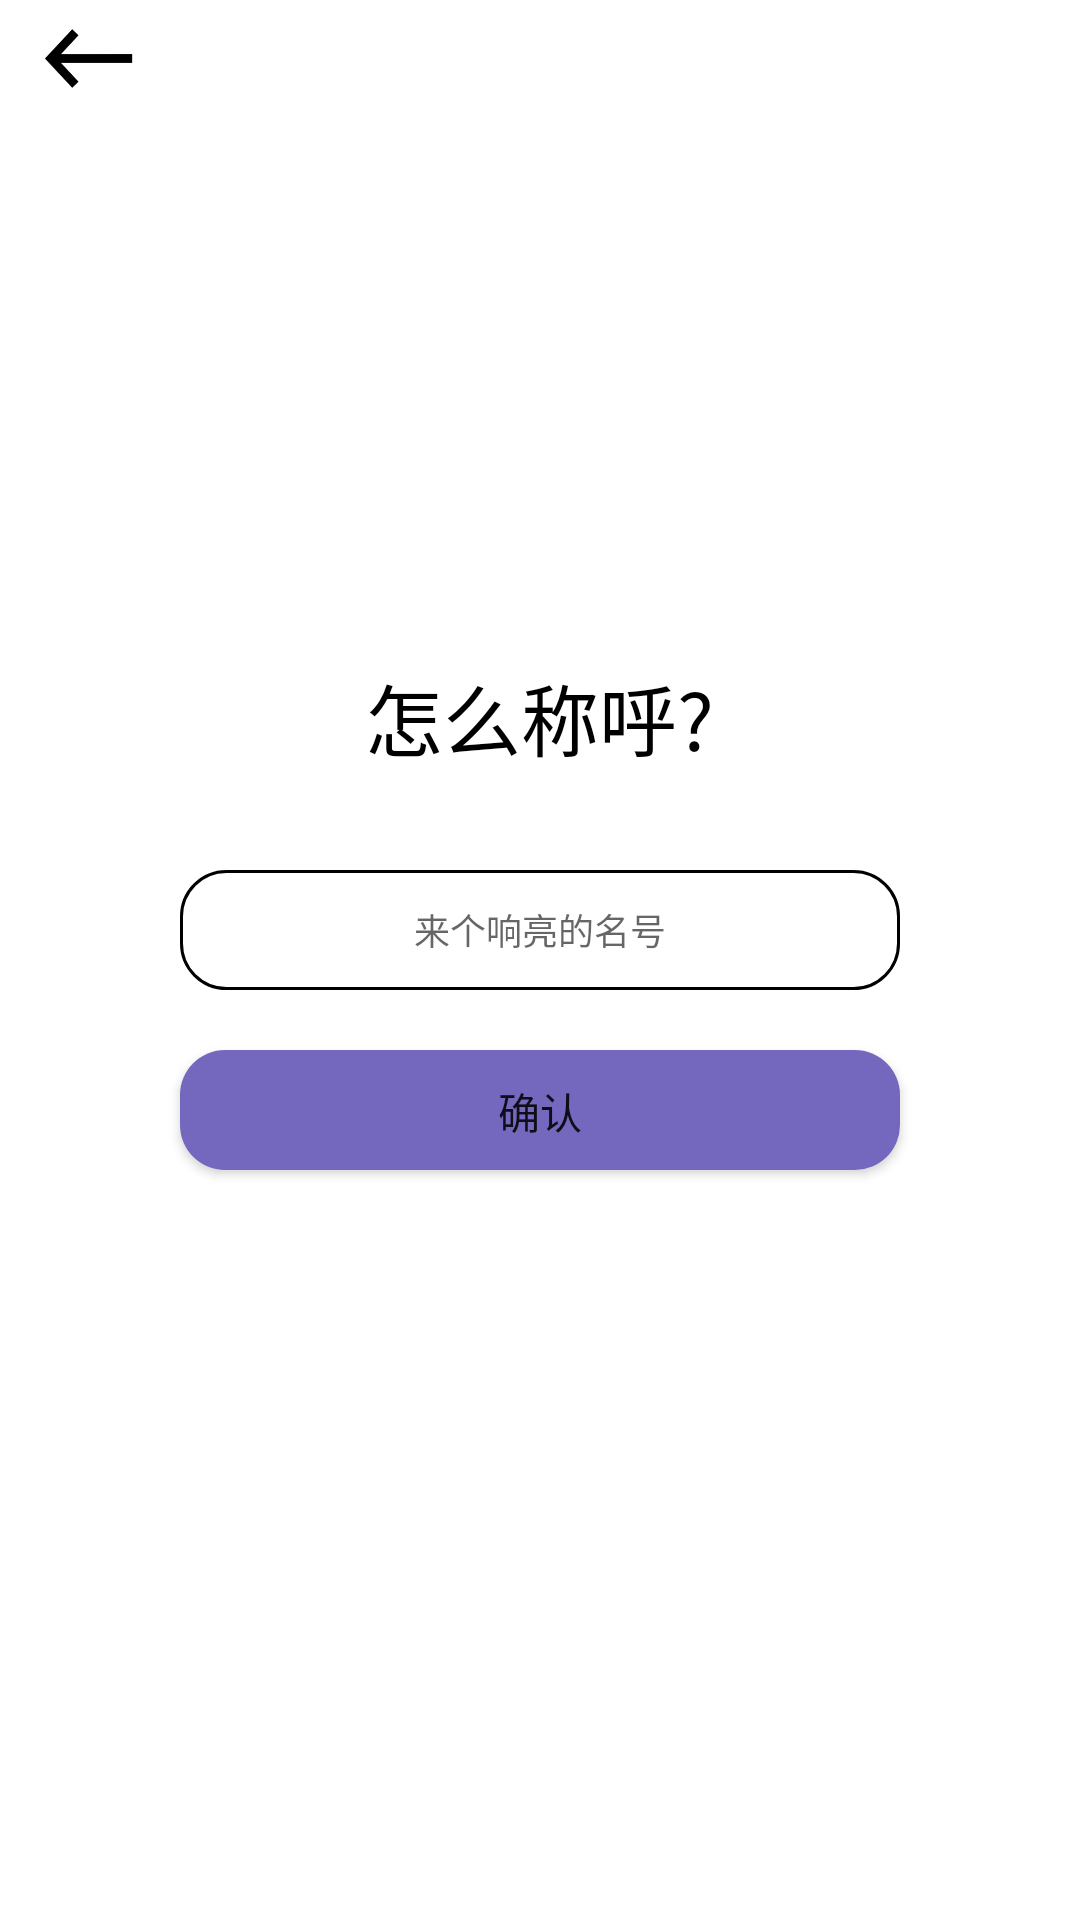

Named icons in this screenshot (1080w x 1920h) and their centers, (x,y):
previous: (89,58)
